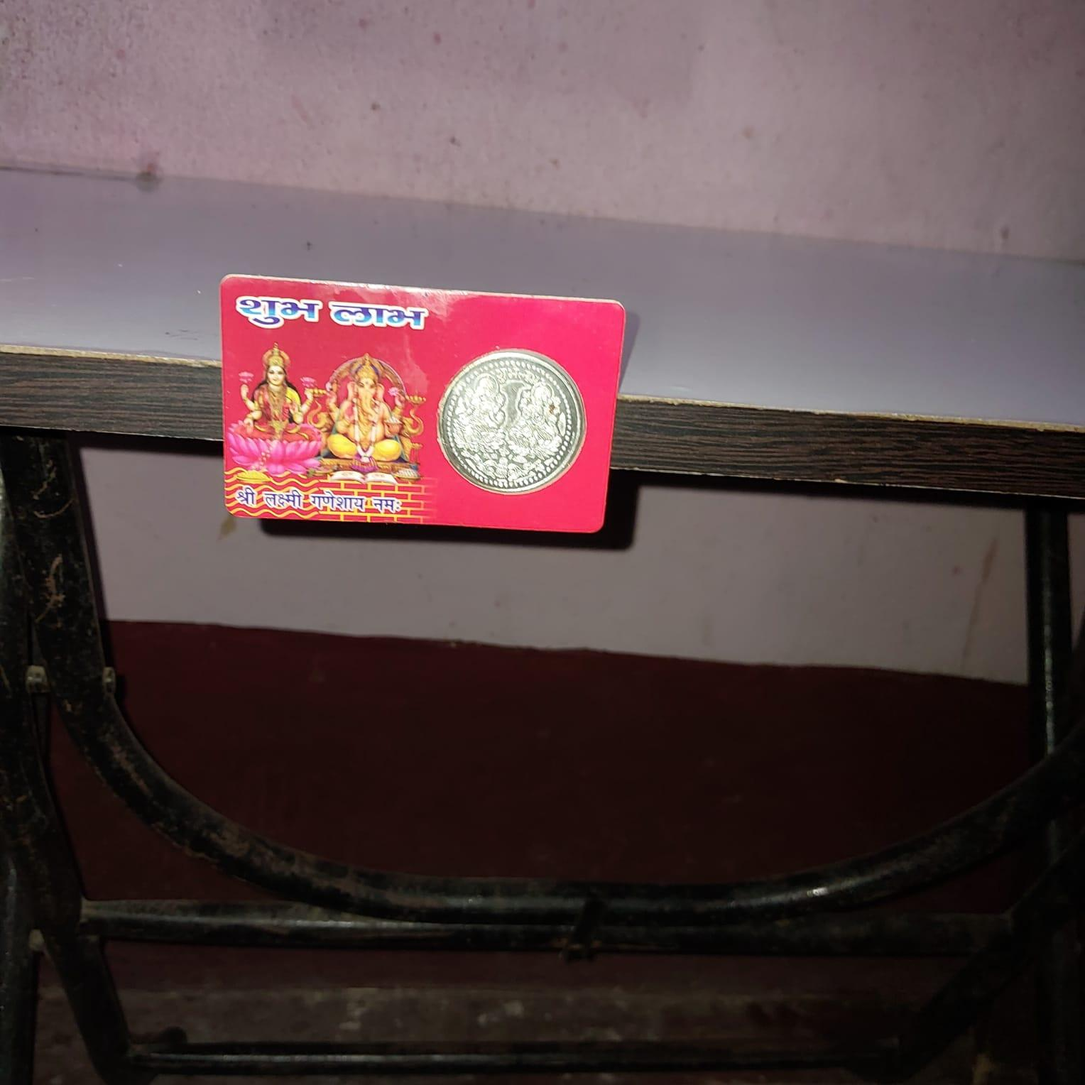blessing_card: (214, 272, 637, 545)
